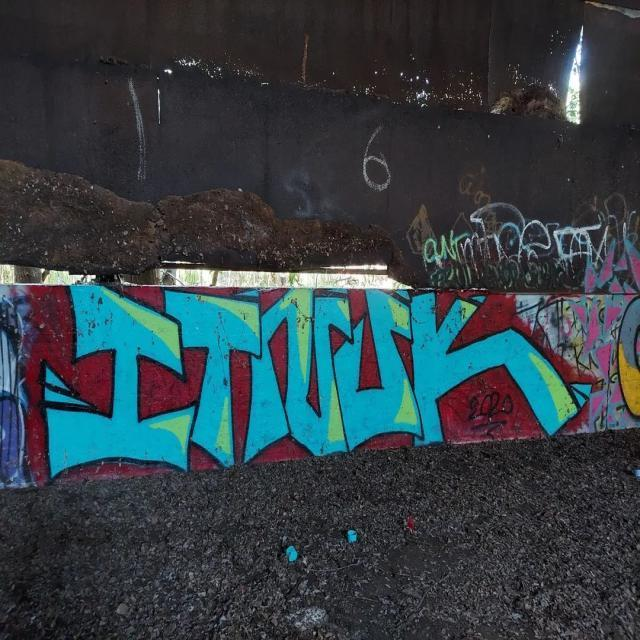-: (29, 282, 598, 473), (412, 210, 616, 298)
